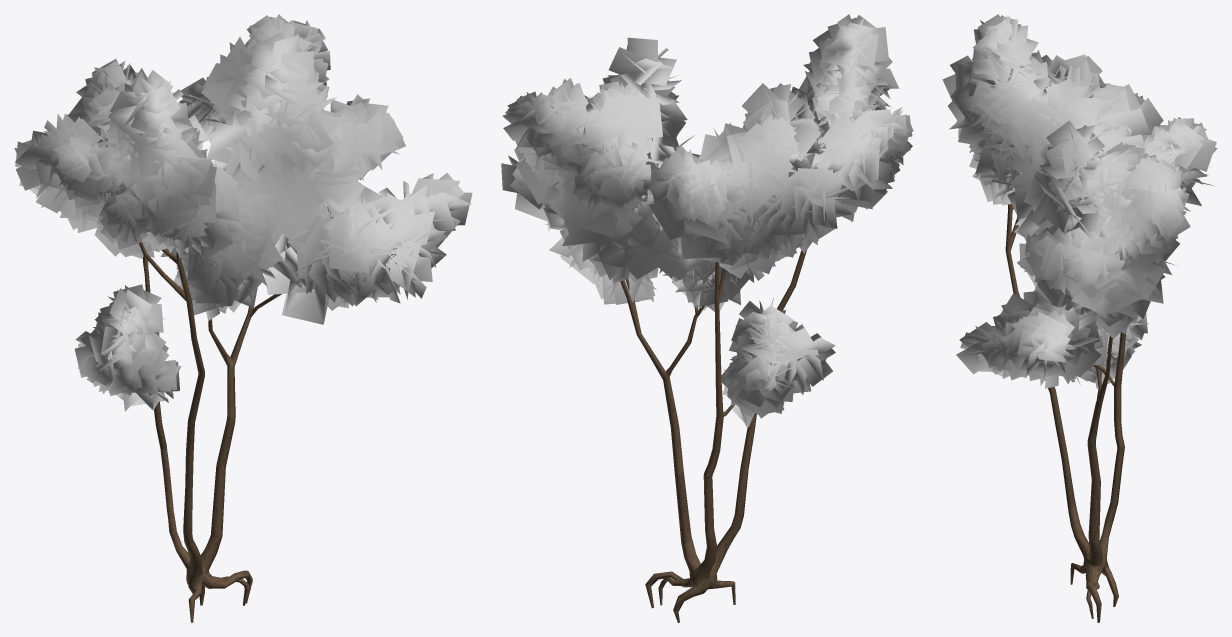
File: Tree_05.fbx
3 views of the same model, side by side, from view 1: azimuth 30°, elevation 25°; view 2: azimuth 150°, elevation 25°; view 3: azimuth 270°, elevation 25° (orthographic). The views are drawn at different scales.
Visible parts, largest first — view 1: Tree_05_LOD0; view 2: Tree_05_LOD0; view 3: Tree_05_LOD0.
Part boxes in pixels (x1,y1,x2,y2): Tree_05_LOD0: (14,14,472,622); Tree_05_LOD0: (501,14,913,622); Tree_05_LOD0: (942,14,1217,622).
Size of what is drawn, in the model's own units: 3.84 by 5.25 by 2.42.
